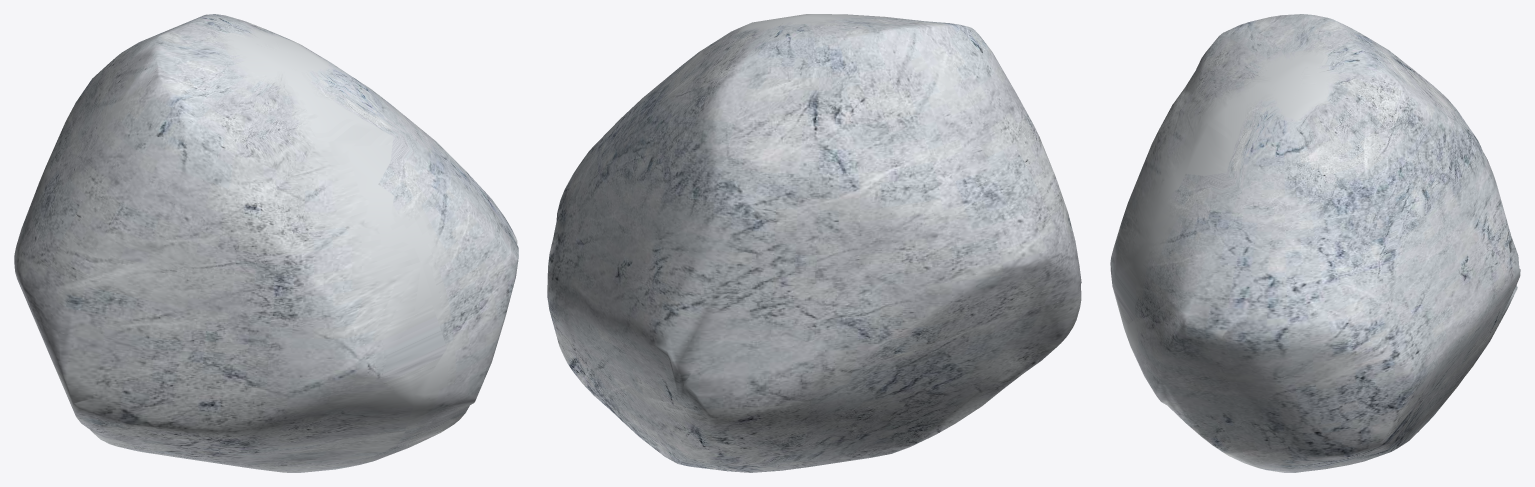
File: hygiea.gltf
3 renders of one model, left to right at view 1: azimuth 30°, elevation 25°; view 2: azimuth 150°, elevation 25°; view 3: azimuth 270°, elevation 25°, orthographic. The views are drawn at different scales.
Visible parts, largest first — view 1: hygiea; view 2: hygiea; view 3: hygiea.
Boxes of the visible parts, bbox=[...] form: hygiea: bbox=[14, 14, 518, 472]; hygiea: bbox=[547, 14, 1081, 472]; hygiea: bbox=[1110, 14, 1520, 472].
Bounding box in the file's own units: 508 × 479 × 458.
Materials: 1 (1 with a texture image).
